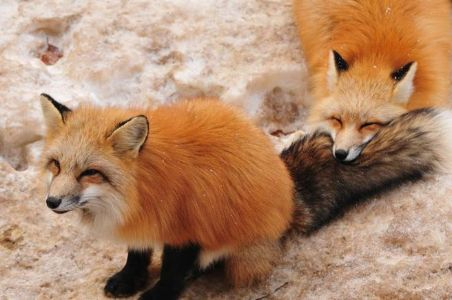fox: (31, 86, 324, 297), (287, 1, 448, 164)
